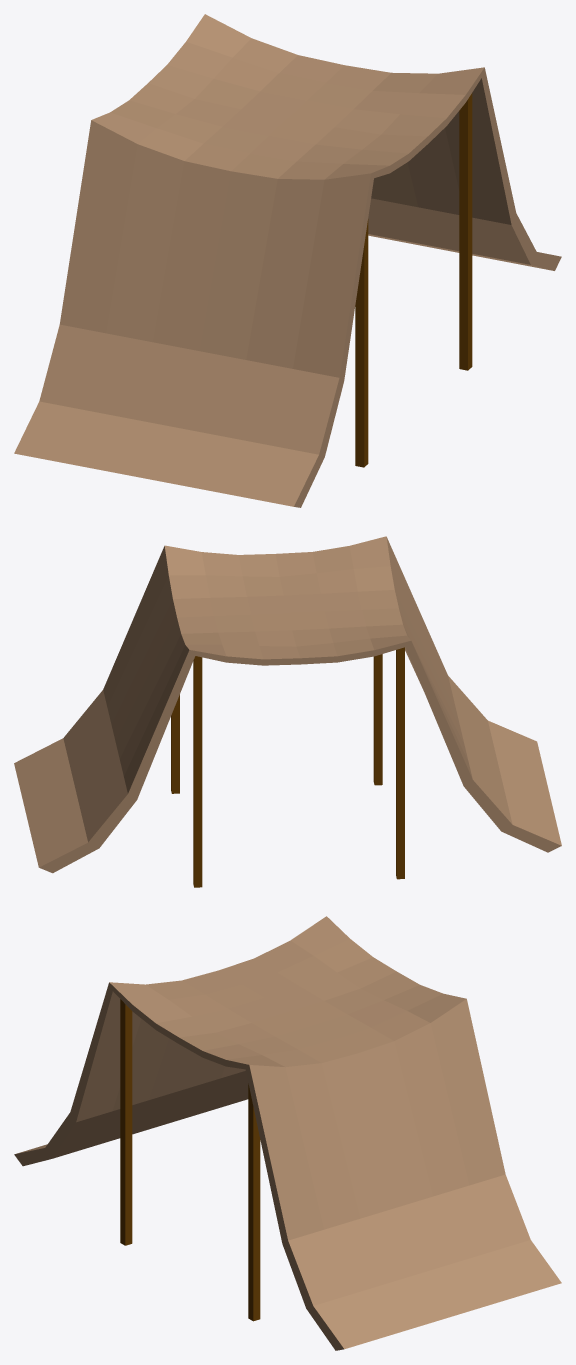
File: tent.fbx
3 renders of one model, top to bottom at view 1: azimuth 30°, elevation 25°; view 2: azimuth 150°, elevation 25°; view 3: azimuth 270°, elevation 25°, orthographic. The views are drawn at different scales.
Visible parts, largest first — view 1: Circle.001; view 2: Circle.001; view 3: Circle.001.
Part boxes in pixels (x1=…): Circle.001: x1=14, y1=14, x2=561, y2=507; Circle.001: x1=14, y1=536, x2=561, y2=887; Circle.001: x1=14, y1=916, x2=561, y2=1350.
Bounding box in the file's own units: 5286 × 2777 × 5959.
